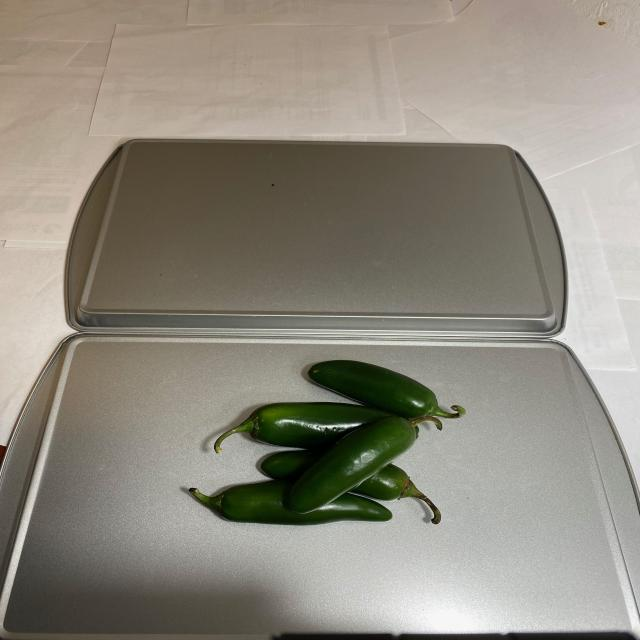chilli: (192, 351, 460, 522)
